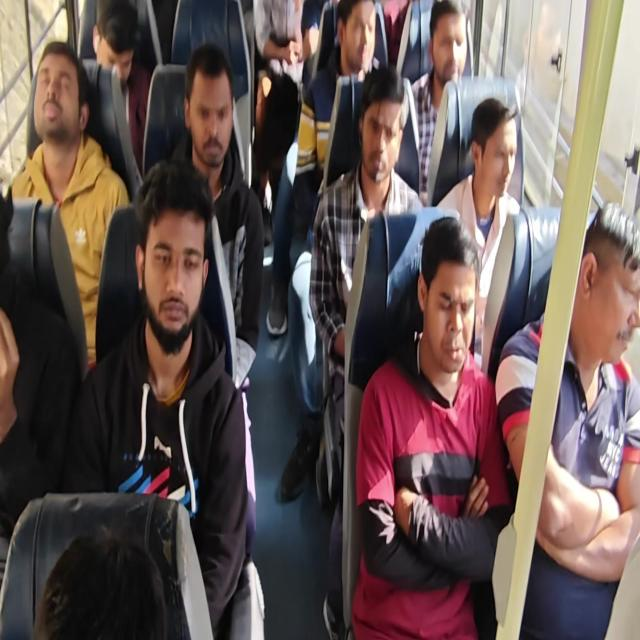person: (125, 149, 213, 351), (36, 518, 178, 640), (420, 216, 488, 402), (572, 192, 638, 371), (172, 42, 232, 168), (354, 59, 408, 195), (28, 42, 91, 158), (461, 100, 522, 210), (417, 0, 481, 86), (89, 3, 135, 88), (339, 6, 387, 71)
